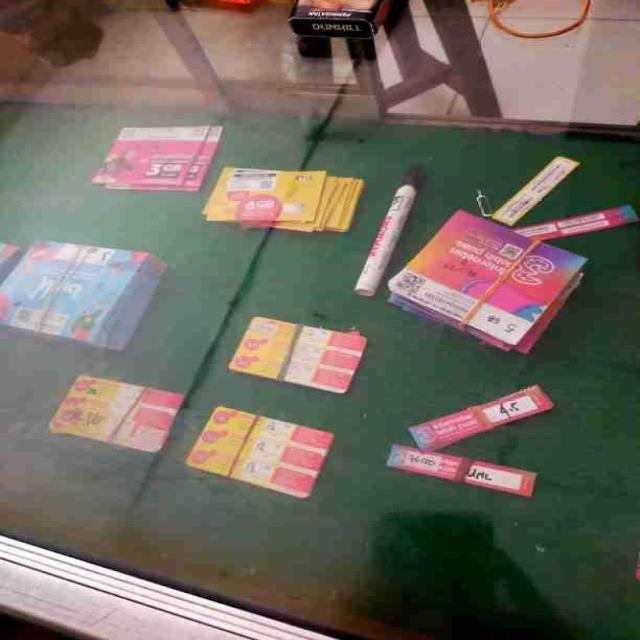Indosat-3: (414, 208, 574, 338), (389, 388, 566, 500), (0, 233, 161, 348), (94, 123, 213, 195)
im3: (190, 399, 332, 501), (48, 373, 183, 451), (214, 165, 360, 237)
